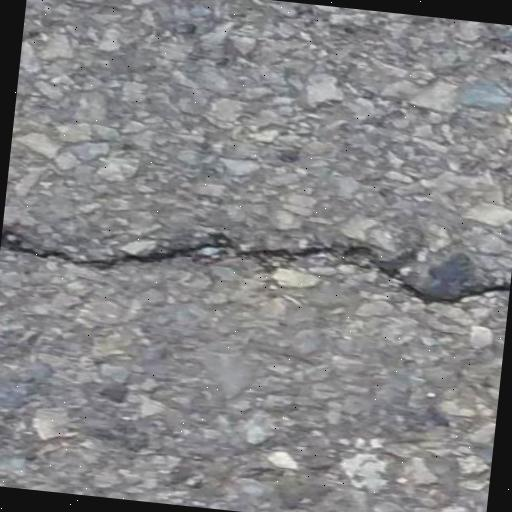spalling: (4, 221, 511, 312)
